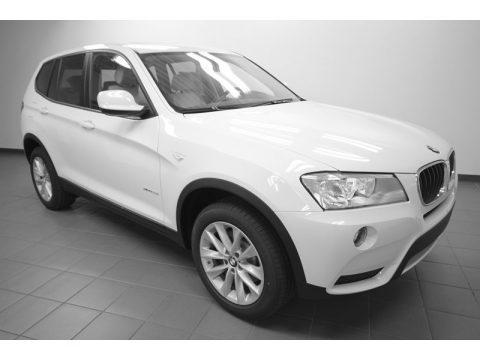car: (20, 43, 461, 329)
